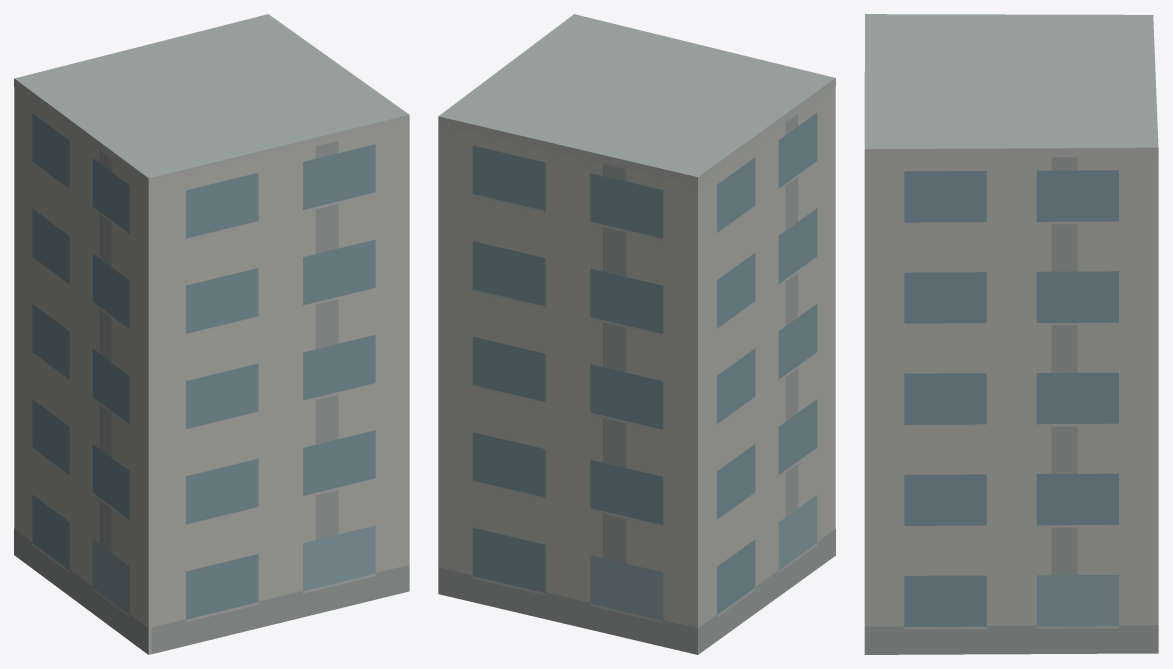
File: survey-upis-33017172.glb
3 views of the same model, side by side, from view 1: azimuth 30°, elevation 25°; view 2: azimuth 150°, elevation 25°; view 3: azimuth 270°, elevation 25° (orthographic). The views are drawn at different scales.
Visible parts, largest first — view 1: survey-upis-33017172.tmp; view 2: survey-upis-33017172.tmp; view 3: survey-upis-33017172.tmp.
Part boxes in pixels (<box>): survey-upis-33017172.tmp: <box>14,14,409,654</box>; survey-upis-33017172.tmp: <box>438,14,835,654</box>; survey-upis-33017172.tmp: <box>864,14,1158,654</box>.
Size of the model in its own units: 7.69 by 13.4 by 7.08.
